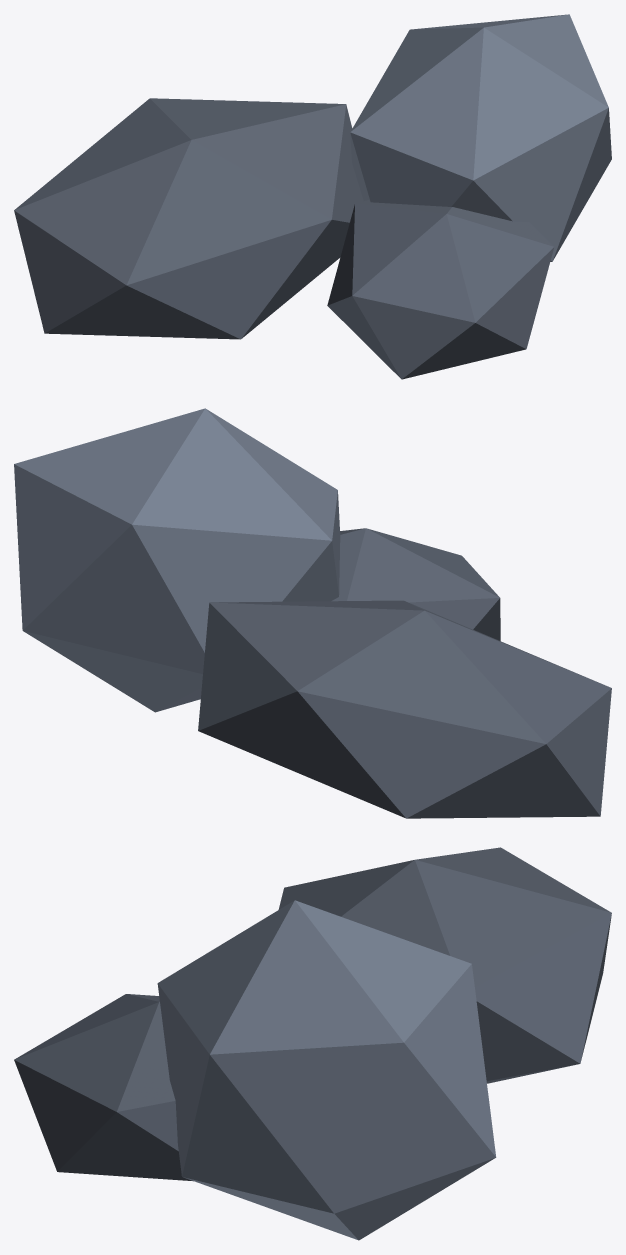
The model's file is EXTW_SouthCluster_00.glb.
3 renders of one model, top to bottom at view 1: azimuth 30°, elevation 25°; view 2: azimuth 150°, elevation 25°; view 3: azimuth 270°, elevation 25°, orthographic. The views are drawn at different scales.
Visible parts, largest first — view 1: EXTW_SouthCluster_00; view 2: EXTW_SouthCluster_00; view 3: EXTW_SouthCluster_00.
Part boxes in pixels (left/top/right/bottom): EXTW_SouthCluster_00: left=14, top=14, right=611, bottom=379; EXTW_SouthCluster_00: left=14, top=408, right=611, bottom=818; EXTW_SouthCluster_00: left=14, top=847, right=611, bottom=1240.
Bounding box in the file's own units: 2.19 × 1.01 × 1.66.
